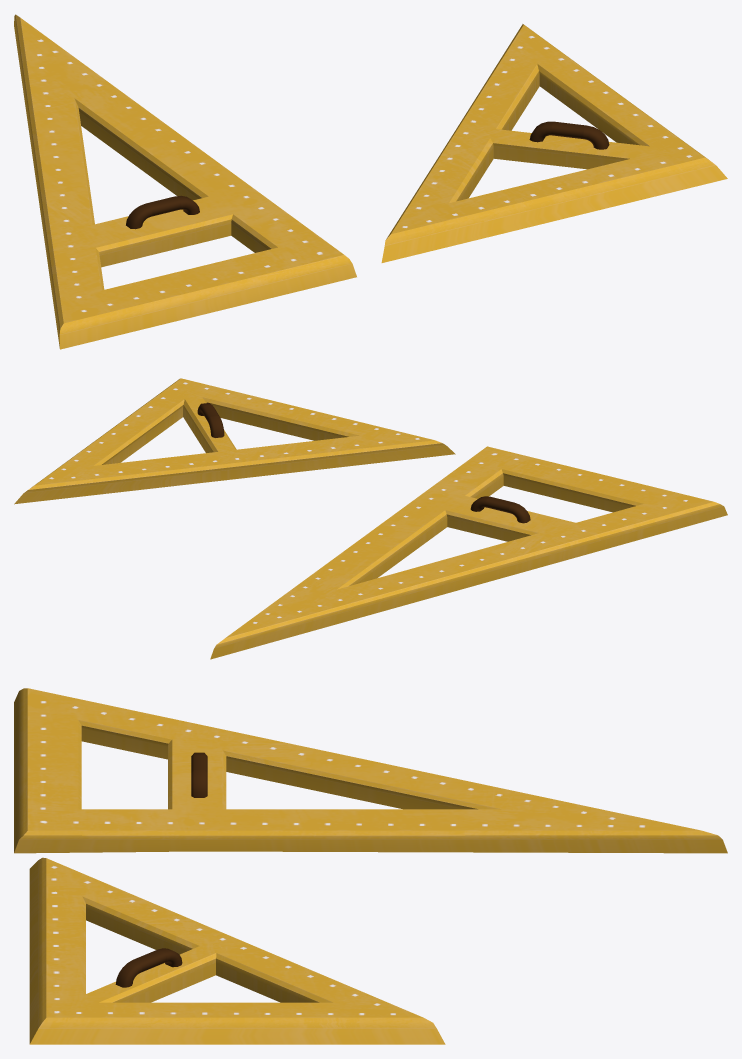
Rendered from ruler_2.fbx.
3 views of the same model, one above another, from view 1: azimuth 30°, elevation 25°; view 2: azimuth 150°, elevation 25°; view 3: azimuth 270°, elevation 25° (orthographic). The views are drawn at different scales.
Visible parts, largest first — view 1: pCube18, polySurface2; view 2: pCube18, polySurface2; view 3: pCube18, polySurface2.
Part boxes in pixels (bbox=[...]): pCube18: bbox=[14, 14, 356, 349]; polySurface2: bbox=[381, 24, 727, 262]; pCube18: bbox=[210, 446, 727, 659]; polySurface2: bbox=[14, 378, 455, 504]; pCube18: bbox=[14, 688, 727, 853]; polySurface2: bbox=[29, 857, 445, 1044].
Size of the model in its own units: 93.65 by 4.83 by 82.41.
